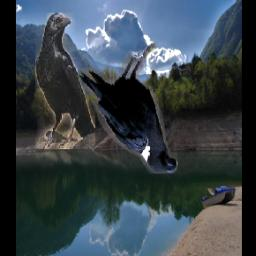Crow: (79, 42, 178, 175), (35, 14, 95, 150)
